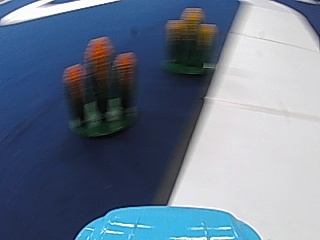corn: (62, 33, 139, 139), (166, 3, 218, 74)
